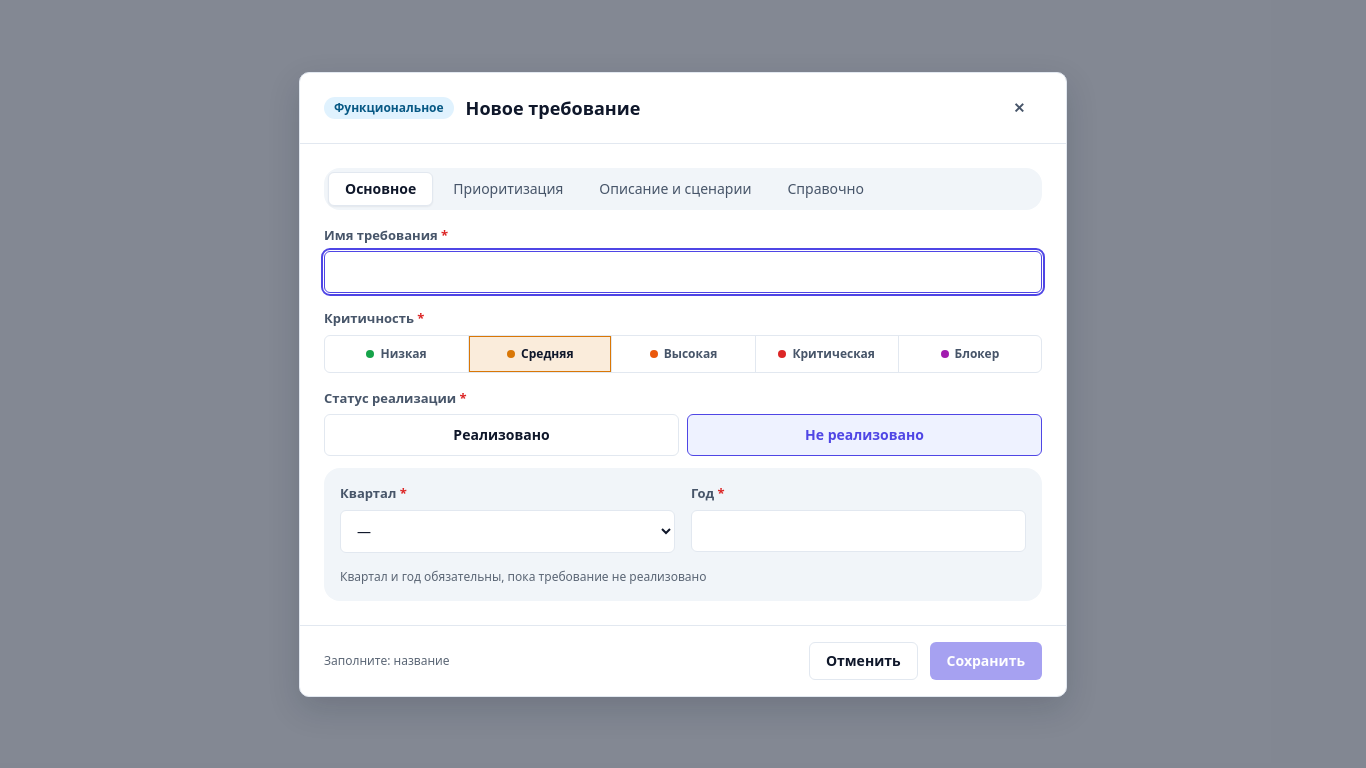
Scenario: RequirementModal (T-1106, FR-6) › T-205: «Приоритизация» renders the sources tab with add + aggregate
The width and height of the screenshot is (1366, 768).
Step 1. Click the tab with test id "req-tab-priority" → (508, 188), box [437,172,579,206]
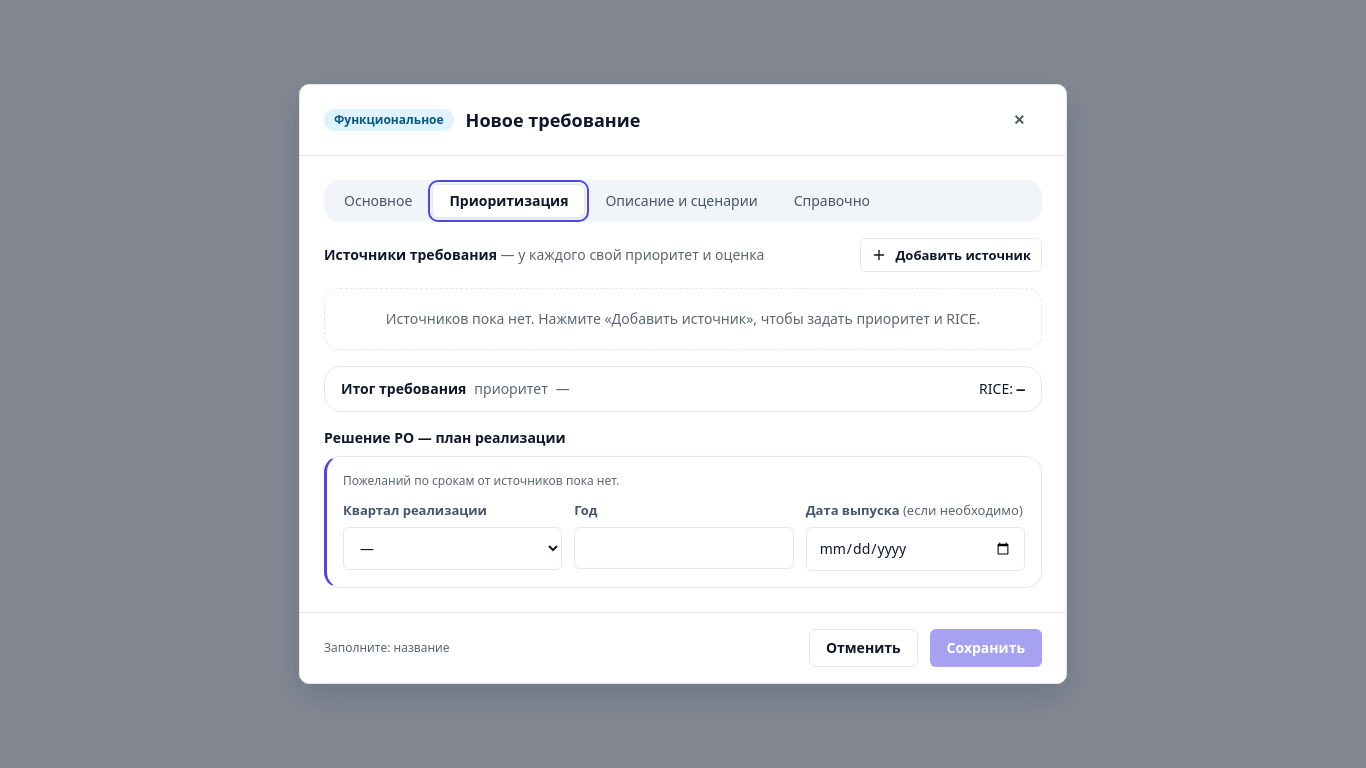
Expected: the element with test id "req-priority-tab" is shown, [324,238,1042,588]
Expected: the button with test id "src-add" is shown, [860,238,1042,272]
Expected: the text with test id "req-aggregate-rice" reads "—", [1017,381,1025,397]
